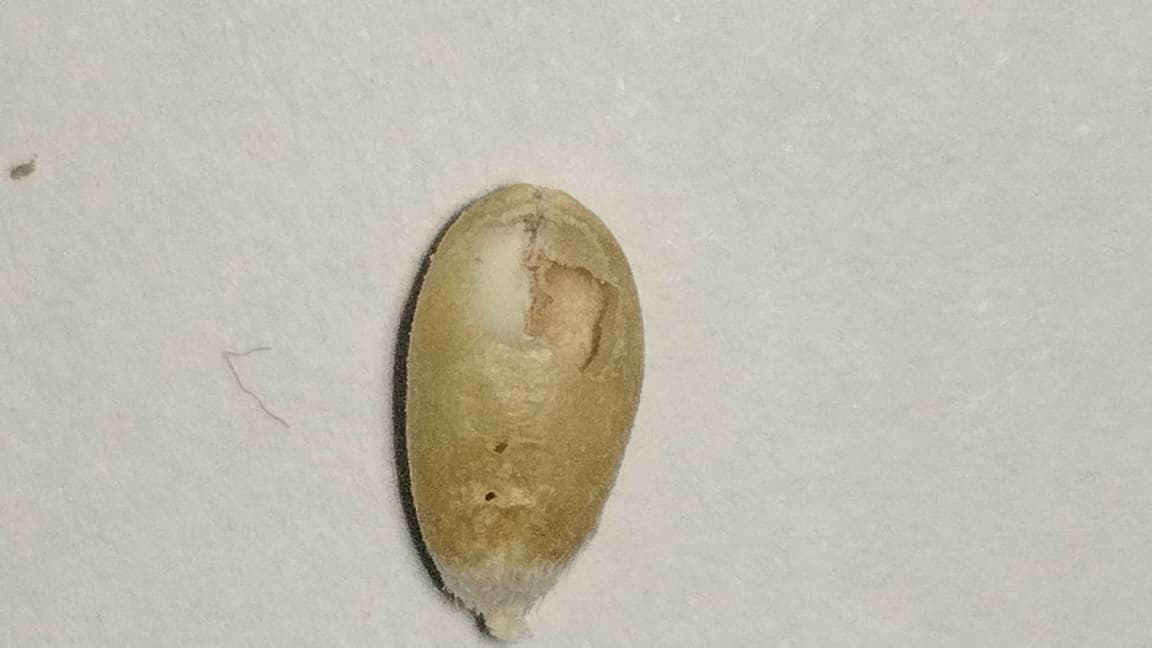damage: (407, 184, 642, 617)
insectdamage: (469, 216, 626, 377)
